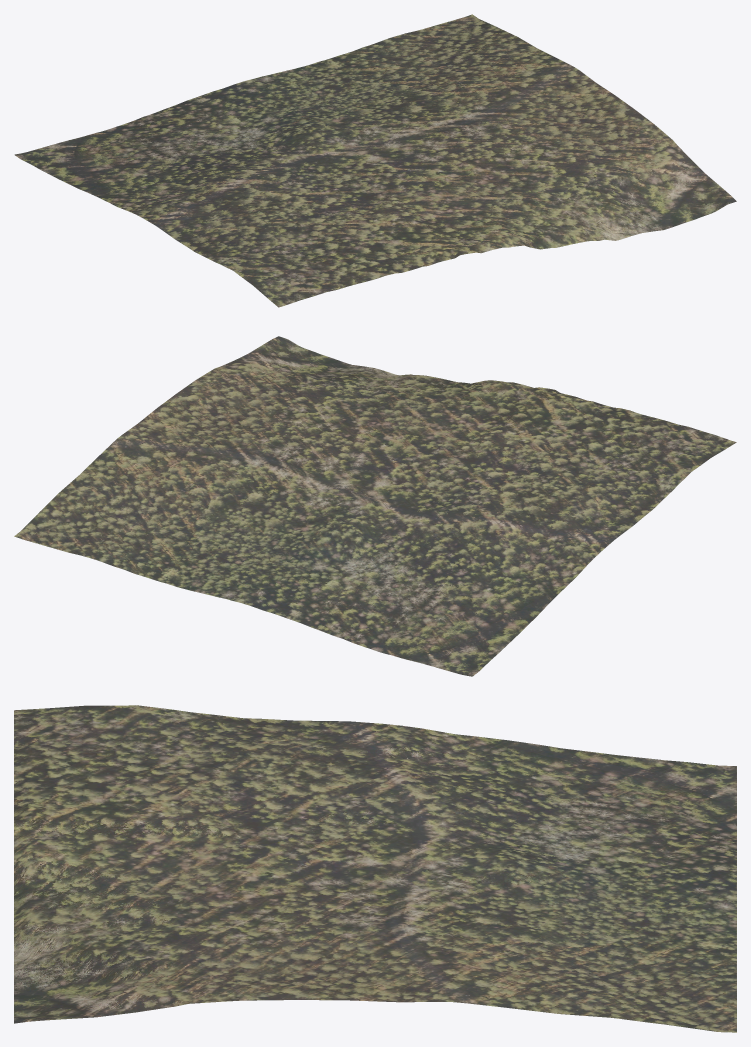
The model's file is CM_Terrain_24490663_6822660.fbx.
The picture shows the model from 3 angles, top to bottom: view 1: azimuth 30°, elevation 25°; view 2: azimuth 150°, elevation 25°; view 3: azimuth 270°, elevation 25°; orthographic projection. The views are drawn at different scales.
Visible parts, largest first — view 1: CM_Terrain_24490663_6822660_LOD0; view 2: CM_Terrain_24490663_6822660_LOD0; view 3: CM_Terrain_24490663_6822660_LOD0.
Boxes of the visible parts, x1=… form: CM_Terrain_24490663_6822660_LOD0: x1=14, y1=14, x2=736, y2=307; CM_Terrain_24490663_6822660_LOD0: x1=14, y1=336, x2=736, y2=676; CM_Terrain_24490663_6822660_LOD0: x1=14, y1=705, x2=736, y2=1032.
Size of what is drawn, in the model's own units: 205 by 22.6 by 205.
